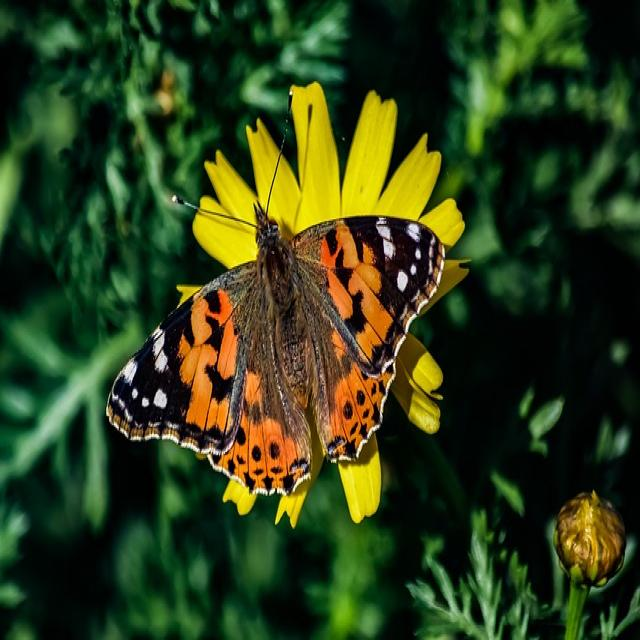butterfly: (105, 87, 445, 497)
